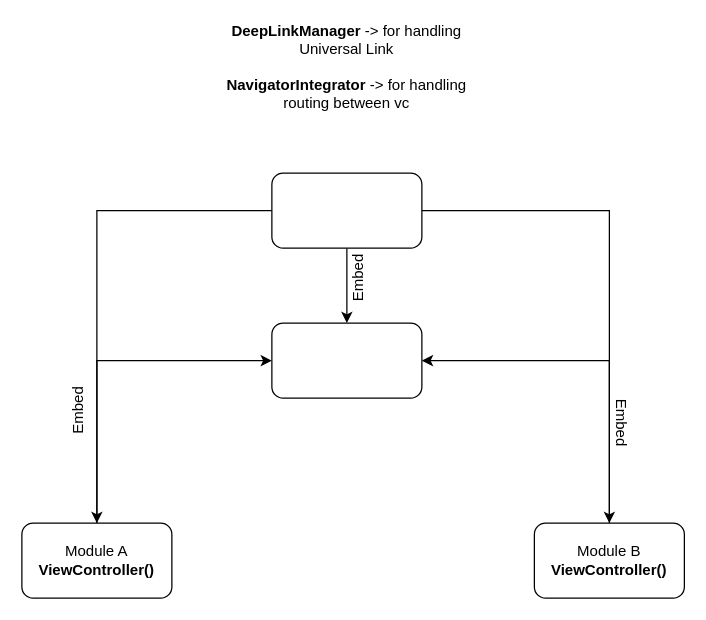
Some shapes in this 706 by 620 pixel diagram are drawn without their labels. The box of each missing label's shape, as (x1, y1, x2, y2) in pixels:
Common Module DeepLinkNavigator: (271, 322, 422, 398)
Main App: (271, 172, 422, 248)
